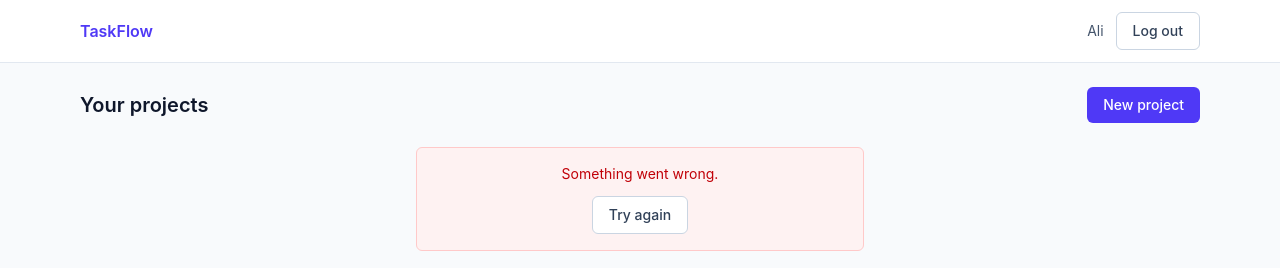
Scenario: shows an error with a retry button when loading fails
The width and height of the screenshot is (1280, 268).
Click the button "Try again" at [640, 215], box left=592, top=196, right=688, bottom=234
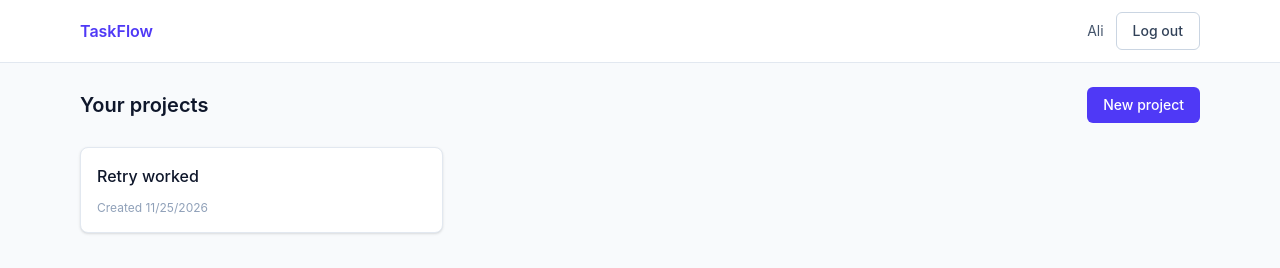
expect the heading "Retry worked" is shown: met, box left=97, top=166, right=199, bottom=186
